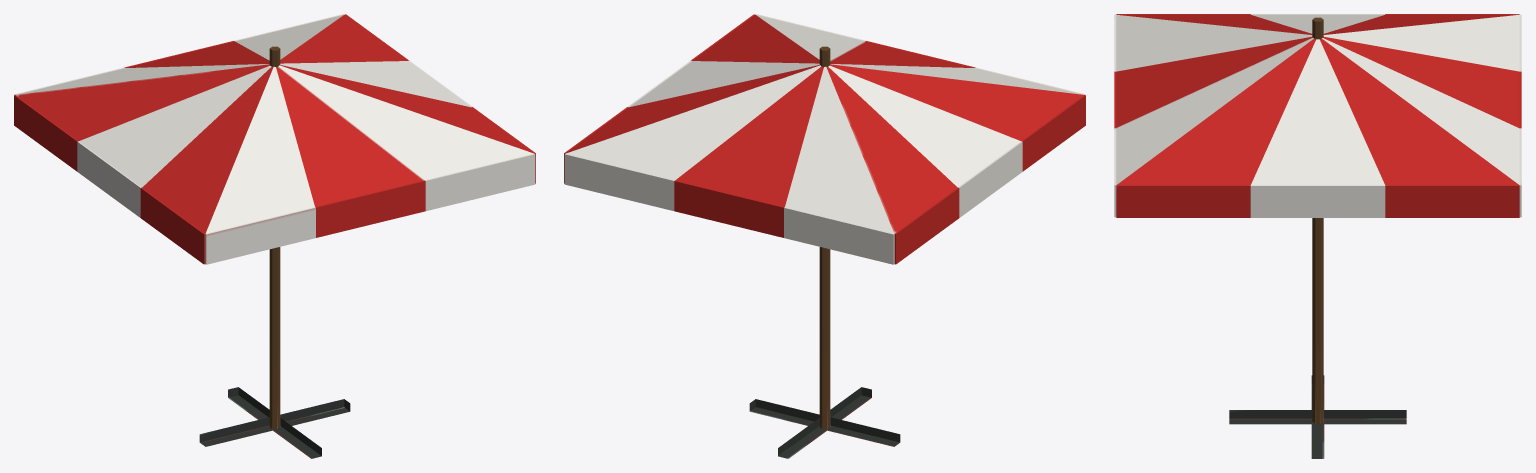
File: slunecnik_ctverec_72c120fd.glb
3 views of the same model, side by side, from view 1: azimuth 30°, elevation 25°; view 2: azimuth 150°, elevation 25°; view 3: azimuth 270°, elevation 25° (orthographic). The views are drawn at different scales.
Parts seen in each view (by area): view 1: dum; view 2: dum; view 3: dum.
Boxes of the visible parts, x1,y1,x2,y2 form: dum: (14,14,535,458); dum: (564,14,1085,458); dum: (1114,14,1521,458).
Size of the model in its own units: 2.52 by 2.74 by 2.52.
Materials: 1 (1 with a texture image).
